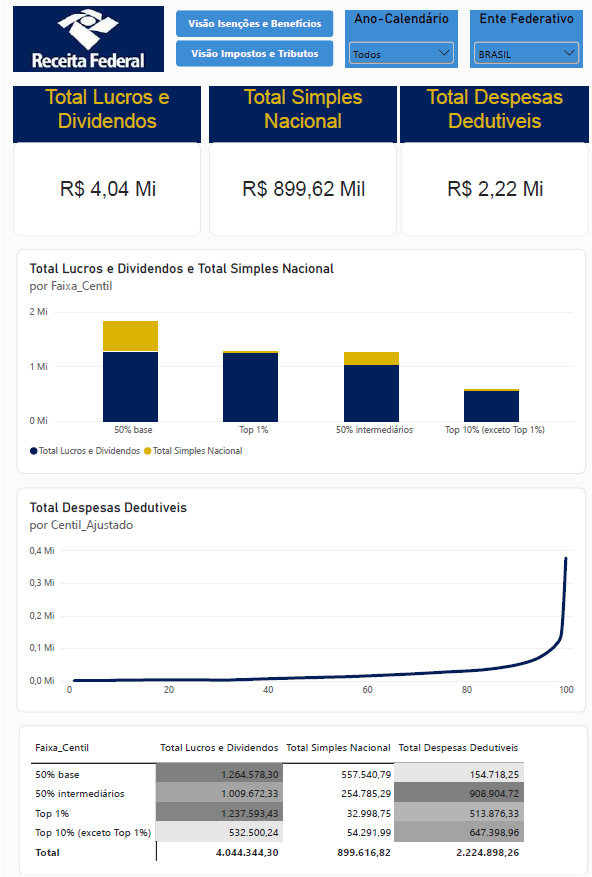

What the dashboard file says about the page in this screenshot:
{"tool":"powerbi","page":{"name":"Raio_X_Renda_Tributação","canvas":[800,1200],"ordinal":0},"visuals":[{"type":"pivotTable","fields":{"Rows":["distribuicao_renda_rfb.Faixa_Centil"],"Values":["distribuicao_renda_rfb.Total Lucros e Dividendos","distribuicao_renda_rfb.Total Simples Nacional","distribuicao_renda_rfb.Total Despesas Dedutiveis"]},"box":[23.3,966.7,760,200],"z":0},{"type":"lineChart","fields":{"Category":["distribuicao_renda_rfb.Centil_Ajustado"],"Y":["distribuicao_renda_rfb.Total Despesas Dedutiveis"]},"box":[20,650,760,300],"z":1000},{"type":"columnChart","fields":{"Category":["distribuicao_renda_rfb.Faixa_Centil"],"Y":["distribuicao_renda_rfb.Total Lucros e Dividendos","distribuicao_renda_rfb.Total Simples Nacional"]},"box":[20,331.7,760,300],"z":2000},{"type":"cardVisual","title":"Total Despesas Dedutiveis","fields":{"Data":["distribuicao_renda_rfb.Total Despesas Dedutiveis"]},"box":[533.3,114.2,250,200],"z":3000},{"type":"cardVisual","title":"Total Simples Nacional","fields":{"Data":["distribuicao_renda_rfb.Total Simples Nacional"]},"box":[276.7,114.2,250,200],"z":4000},{"type":"cardVisual","title":"Total Lucros e Dividendos","fields":{"Data":["distribuicao_renda_rfb.Total Lucros e Dividendos"]},"box":[15,114.2,250,200],"z":5000},{"type":"slicer","title":"Ente Federativo","fields":{"Values":["distribuicao_renda_rfb.Ente Federativo"]},"box":[625.7,12.9,150,75.7],"z":12000},{"type":"slicer","title":"Ano-Calendário","fields":{"Values":["distribuicao_renda_rfb.Ano-calendário"]},"box":[458.6,12.9,150,75.7],"z":13000},{"type":"actionButton","box":[232.7,13.3,210,35.6],"z":14000},{"type":"actionButton","box":[232.7,52.2,210,35],"z":15000},{"type":"image","box":[15,6.7,200,86.7],"z":16000}]}

Visuals, with their boxes in screenshot pixels (x1, y1, x2, y2), scaled from the page's 800x1200 canvas onto the 592x877 screenshot:
pivotTable - distribuicao_renda_rfb.Faixa_Centil x distribuicao_renda_rfb.Total Lucros e Dividendos: [x1=17, y1=706, x2=580, y2=853]
lineChart - distribuicao_renda_rfb.Centil_Ajustado x distribuicao_renda_rfb.Total Despesas Dedutiveis: [x1=15, y1=475, x2=577, y2=694]
columnChart - distribuicao_renda_rfb.Faixa_Centil x distribuicao_renda_rfb.Total Lucros e Dividendos: [x1=15, y1=242, x2=577, y2=462]
"Total Despesas Dedutiveis" cardVisual: [x1=395, y1=83, x2=580, y2=230]
"Total Simples Nacional" cardVisual: [x1=205, y1=83, x2=390, y2=230]
"Total Lucros e Dividendos" cardVisual: [x1=11, y1=83, x2=196, y2=230]
"Ente Federativo" slicer: [x1=463, y1=9, x2=574, y2=65]
"Ano-Calendário" slicer: [x1=339, y1=9, x2=450, y2=65]
actionButton: [x1=172, y1=10, x2=328, y2=36]
actionButton: [x1=172, y1=38, x2=328, y2=64]
image: [x1=11, y1=5, x2=159, y2=68]
